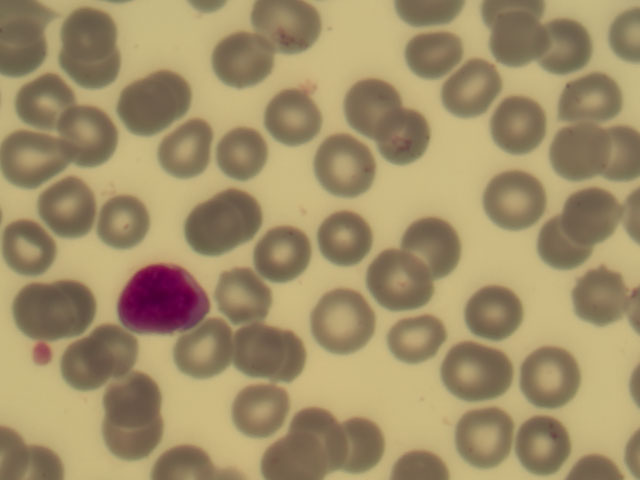Platelets: (29, 341, 58, 366)
RBC: (57, 6, 119, 60), (61, 39, 123, 93), (19, 71, 81, 125), (54, 106, 116, 160), (2, 128, 64, 182), (32, 175, 94, 229), (3, 224, 65, 278), (93, 194, 155, 248), (38, 276, 100, 330), (53, 343, 115, 397), (84, 320, 146, 374), (100, 375, 162, 429), (100, 417, 162, 471), (235, 384, 297, 438), (257, 326, 319, 380), (216, 317, 278, 371), (164, 324, 226, 378), (216, 269, 278, 323), (252, 224, 314, 278), (178, 202, 240, 256), (210, 179, 272, 233), (215, 116, 277, 170), (165, 116, 227, 170), (103, 80, 165, 134), (128, 63, 190, 117), (212, 31, 274, 85), (252, 3, 314, 57), (275, 87, 337, 141), (313, 135, 375, 189), (341, 78, 403, 132), (364, 109, 426, 163), (411, 29, 473, 83), (443, 61, 505, 115), (489, 16, 551, 70), (529, 17, 591, 71), (565, 64, 627, 118), (548, 117, 610, 171), (568, 192, 630, 246), (529, 216, 591, 270), (487, 172, 549, 226), (489, 96, 551, 150), (409, 214, 471, 268), (368, 251, 430, 305), (313, 208, 375, 262), (308, 296, 370, 350), (380, 310, 442, 364), (456, 282, 518, 336), (442, 341, 504, 395), (517, 345, 579, 399), (462, 406, 524, 460), (523, 414, 585, 468), (334, 416, 396, 470), (292, 404, 354, 458), (266, 426, 328, 480), (570, 272, 632, 326), (1, 278, 62, 332)
WBC: (112, 258, 211, 338)
